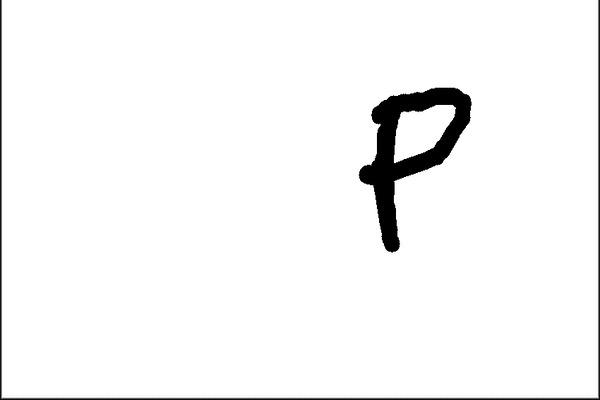P: (351, 81, 481, 263)
